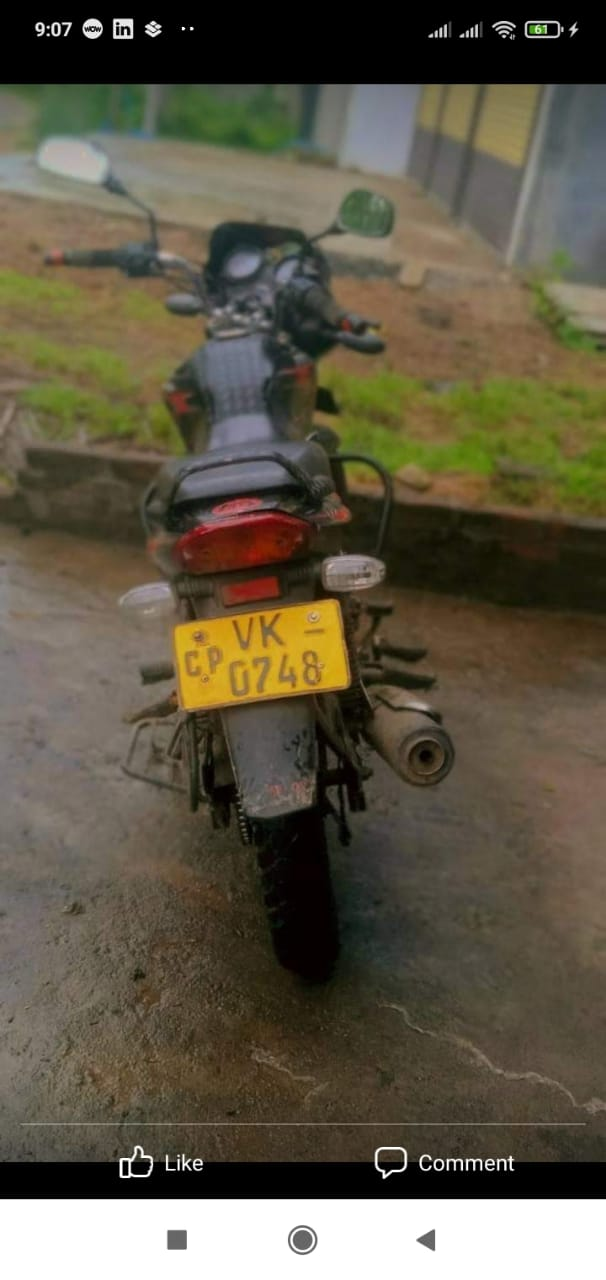number_plate: (170, 599, 349, 705)
